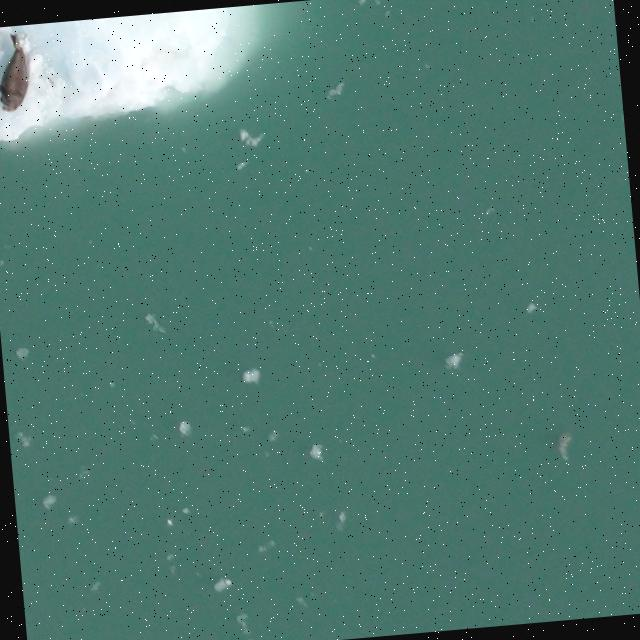seal: (0, 30, 35, 117)
